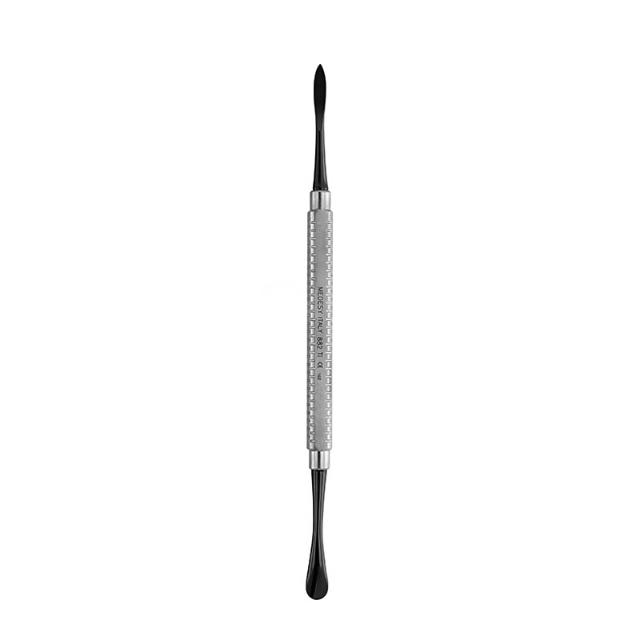elevador: (303, 65, 337, 604)
